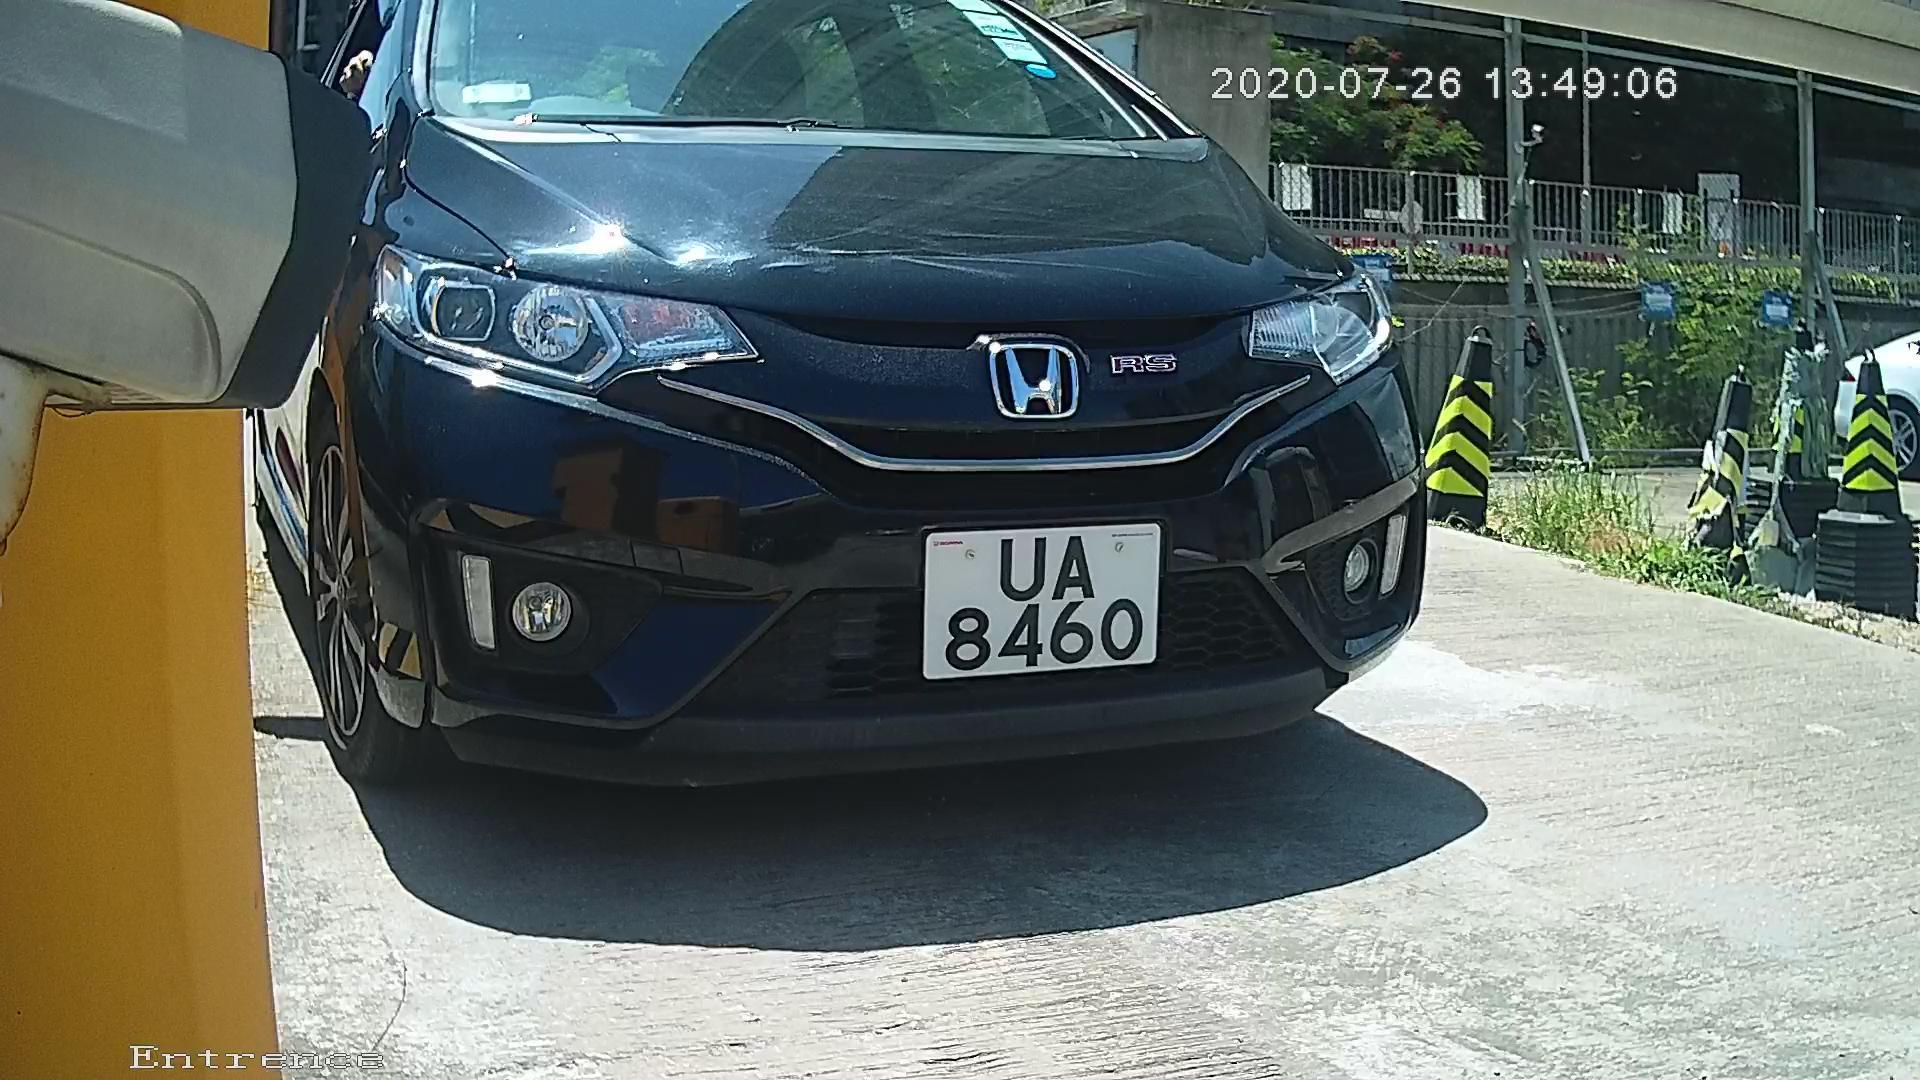privatecar: (266, 29, 1441, 868)
